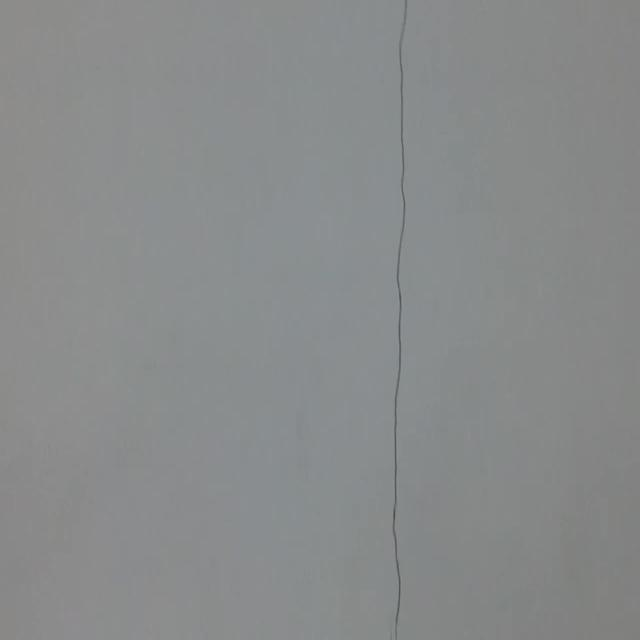Crack: (370, 0, 427, 640)
